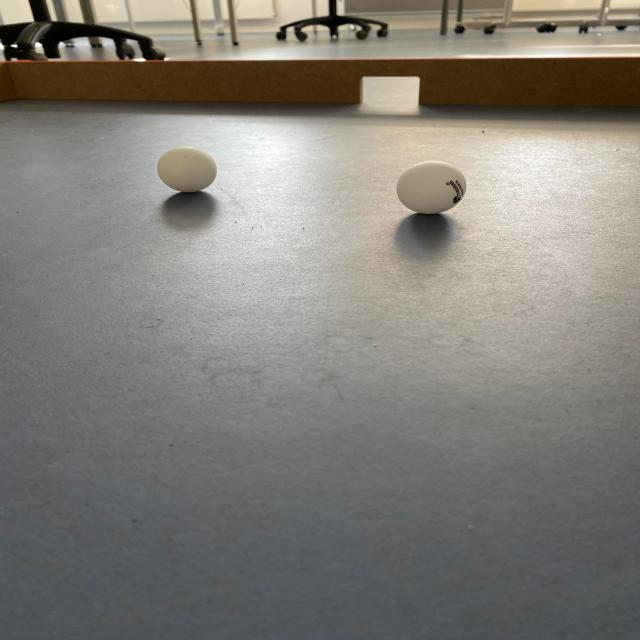white: (394, 157, 474, 221), (148, 136, 223, 197)
